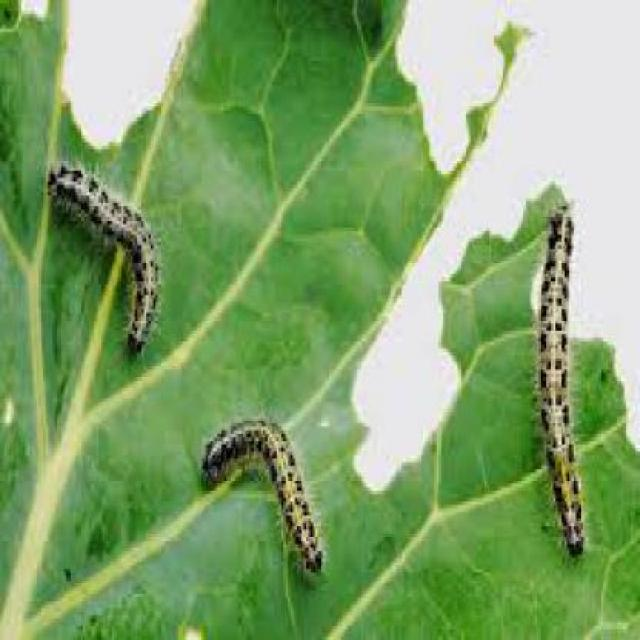Plaga: (188, 382, 337, 588), (522, 197, 602, 574), (40, 150, 171, 361)
